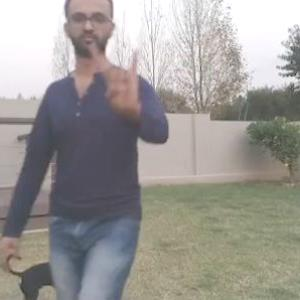takeoff-hand: (83, 36, 144, 117)
